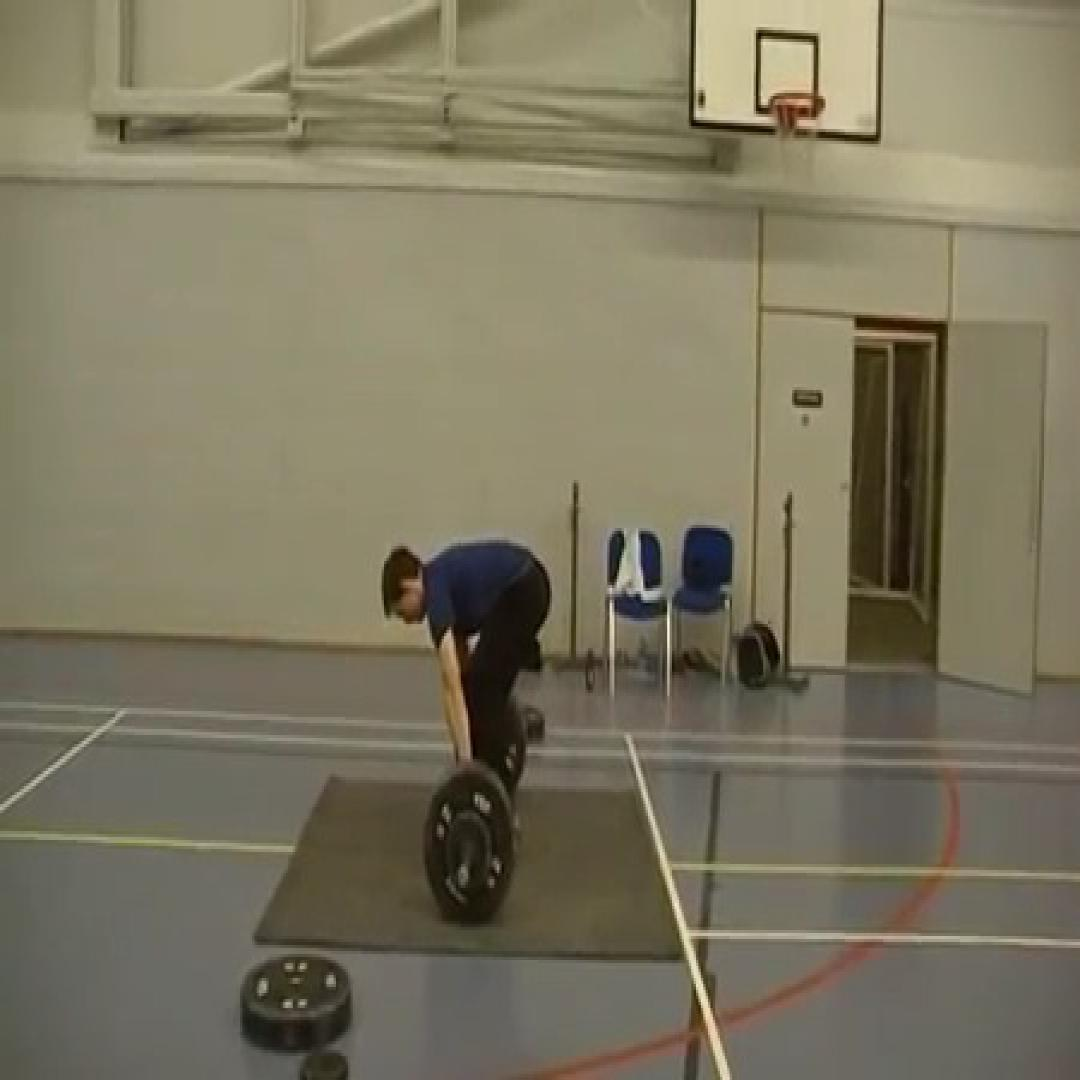Bar: (454, 861, 472, 888)
Barbell: (422, 765, 516, 924)
